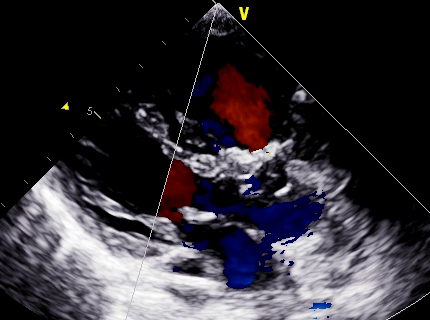AR: (175, 161, 220, 210)
